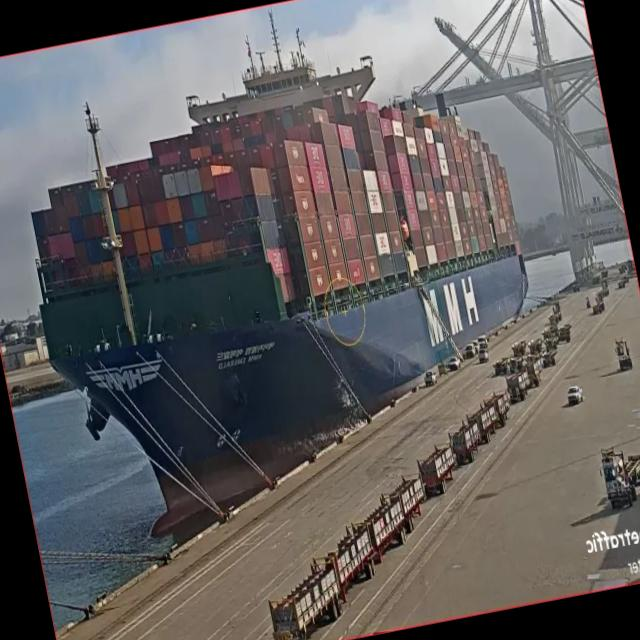Cargo: (32, 20, 528, 539)
